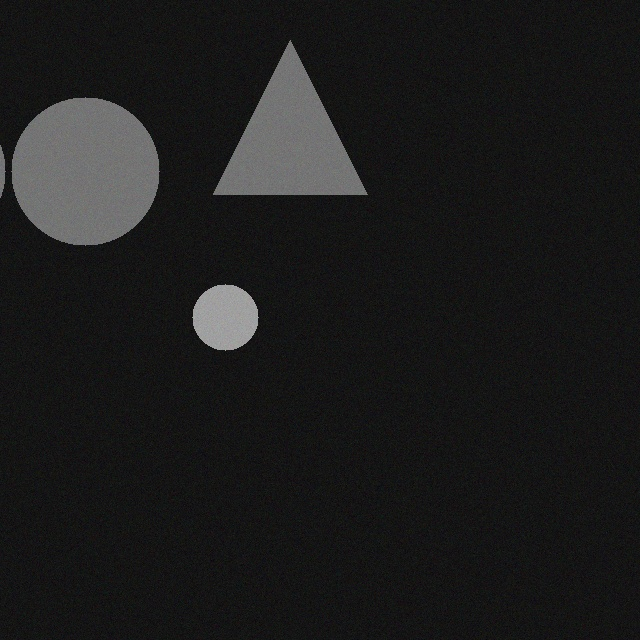circle: (3, 92, 151, 240), (184, 279, 250, 345)
triangle: (205, 35, 359, 189)
